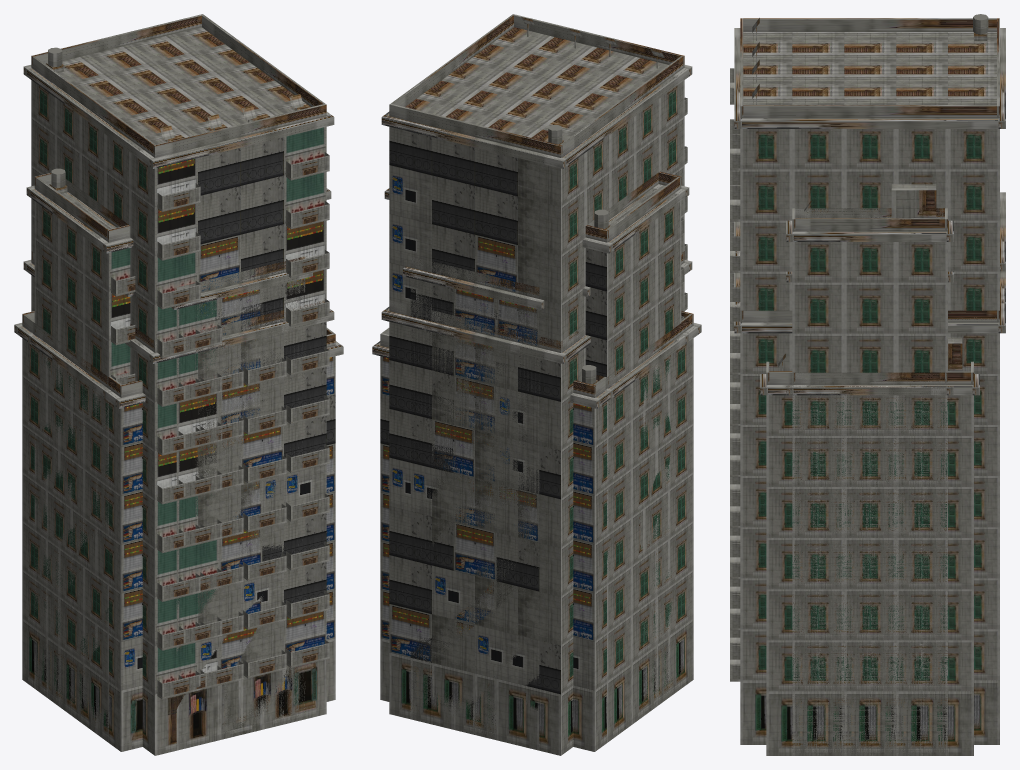
3 renders of one model, left to right at view 1: azimuth 30°, elevation 25°; view 2: azimuth 150°, elevation 25°; view 3: azimuth 270°, elevation 25°, orthographic. The views are drawn at different scales.
Parts seen in each view (by area): view 1: Khedivial_4x5_f11_v1, Khedivial_5x4_f6_v0, Khedivial_4x5_f7_v0, Khedivial_3x5_f8_v1, Khedivial_5x3_f6_v1, Khedivial_2x5_f7_v0, Khedivial_5x3_f9_v0, Khedivial_2x5_f7_v1, Khedivial_4x3_f9_v1; view 2: Khedivial_4x5_f11_v1, Khedivial_3x5_f8_v1, Khedivial_4x5_f7_v0, Khedivial_5x4_f6_v0, Khedivial_2x5_f7_v0, Khedivial_5x3_f6_v1, Khedivial_5x3_f9_v0, Khedivial_4x3_f9_v1; view 3: Khedivial_4x5_f11_v1, Khedivial_5x3_f6_v1, Khedivial_5x4_f6_v0, Khedivial_5x3_f9_v0, Khedivial_4x5_f7_v0, Khedivial_4x3_f9_v1, Khedivial_2x5_f7_v1, Khedivial_3x5_f8_v1.
Part boxes in pixels (<box>): Khedivial_4x5_f11_v1: <box>23,14,334,667</box>; Khedivial_5x4_f6_v0: <box>14,311,343,751</box>; Khedivial_4x5_f7_v0: <box>23,251,334,755</box>; Khedivial_3x5_f8_v1: <box>171,256,312,750</box>; Khedivial_5x3_f6_v1: <box>26,329,130,742</box>; Khedivial_2x5_f7_v0: <box>196,310,291,735</box>; Khedivial_5x3_f9_v0: <box>26,168,331,387</box>; Khedivial_2x5_f7_v1: <box>243,357,286,678</box>; Khedivial_4x3_f9_v1: <box>64,179,133,247</box>; Khedivial_4x5_f11_v1: <box>381,14,692,352</box>; Khedivial_3x5_f8_v1: <box>403,256,544,750</box>; Khedivial_4x5_f7_v0: <box>381,251,692,755</box>; Khedivial_5x4_f6_v0: <box>372,311,701,751</box>; Khedivial_2x5_f7_v0: <box>424,310,521,739</box>; Khedivial_5x3_f6_v1: <box>596,332,689,742</box>; Khedivial_5x3_f9_v0: <box>384,171,689,383</box>; Khedivial_4x3_f9_v1: <box>582,173,662,248</box>; Khedivial_4x5_f11_v1: <box>730,14,1005,681</box>; Khedivial_5x3_f6_v1: <box>786,372,953,755</box>; Khedivial_5x4_f6_v0: <box>760,337,979,755</box>; Khedivial_5x3_f9_v0: <box>786,184,953,384</box>; Khedivial_4x5_f7_v0: <box>730,272,1005,744</box>; Khedivial_4x3_f9_v1: <box>786,208,951,222</box>; Khedivial_2x5_f7_v1: <box>730,323,740,644</box>; Khedivial_3x5_f8_v1: <box>730,192,1005,287</box>.
Size of the model in its own units: 18.3 by 48.15 by 18.6.
1 material, 1 textured.
